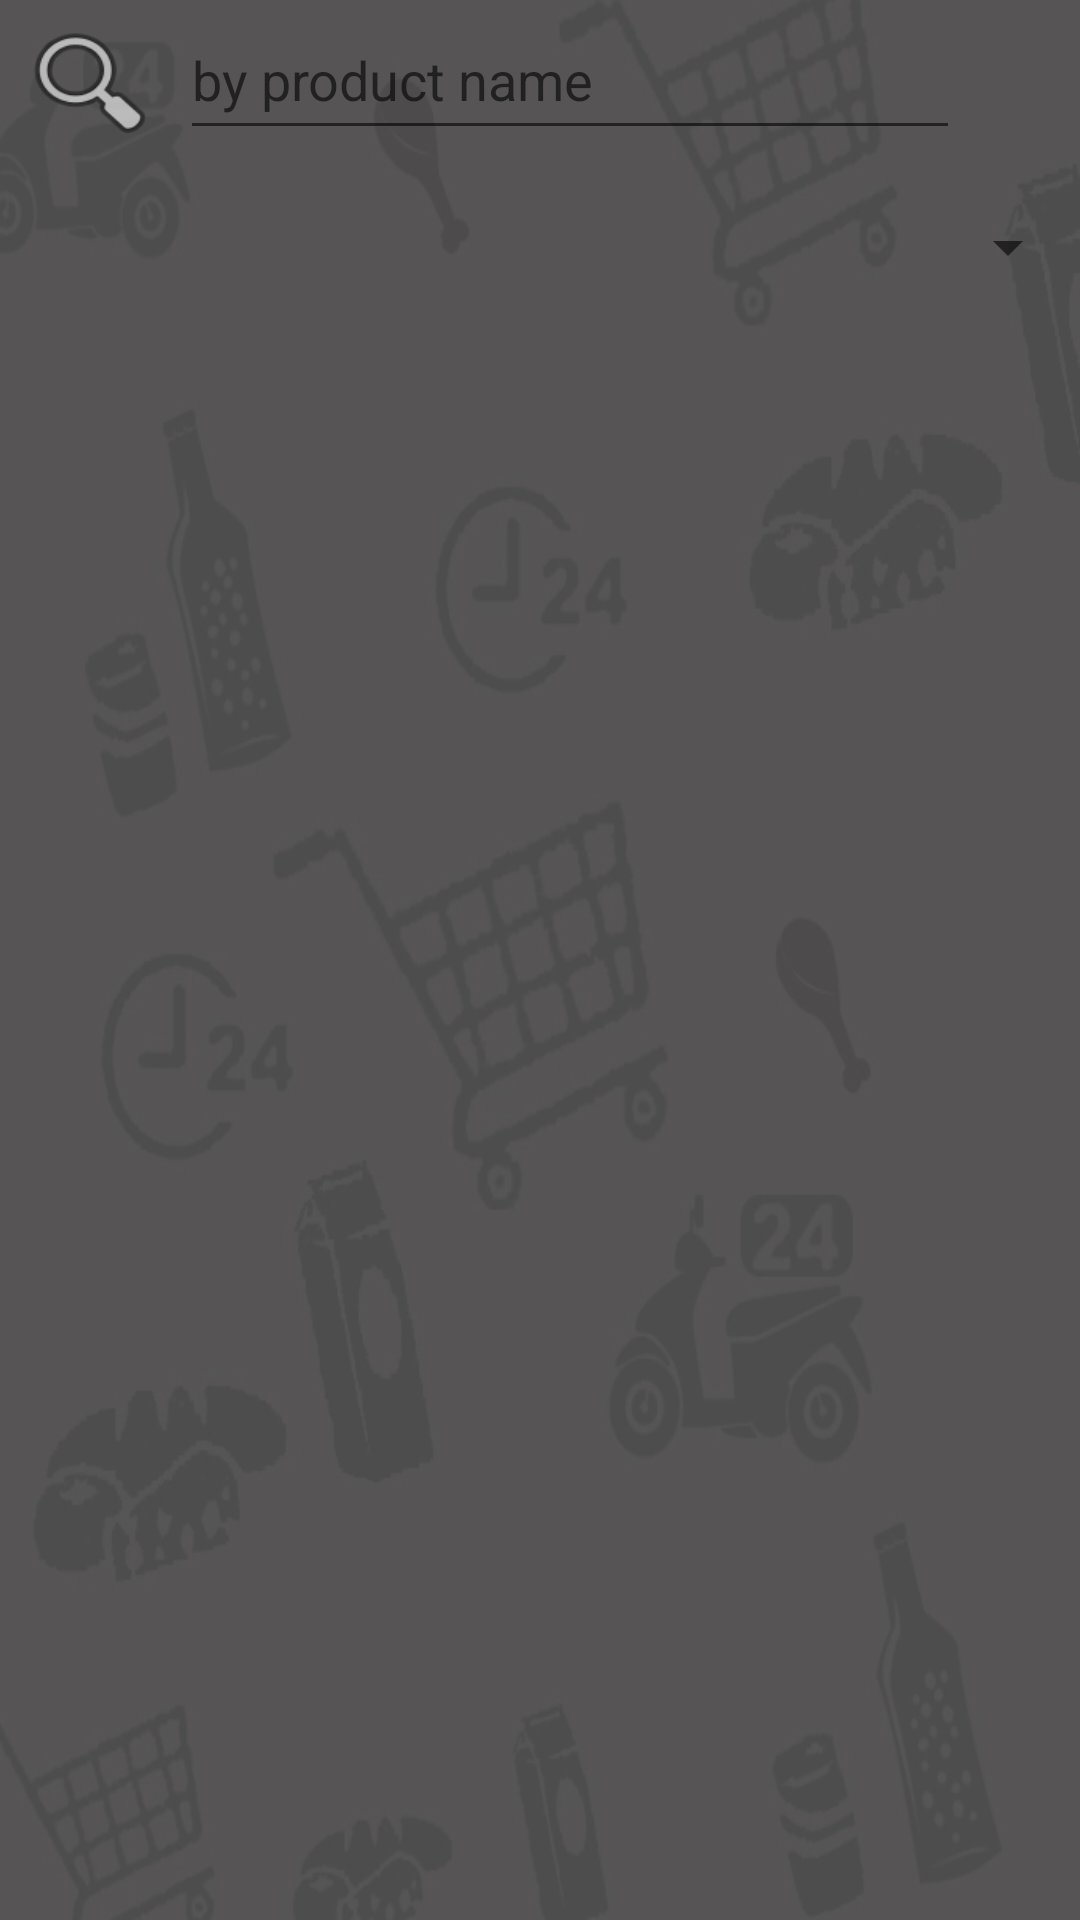

Named icons in this screenshot (1080w x 1920h) and their centers, (x=x, y=y):
search: (x=90, y=83)
